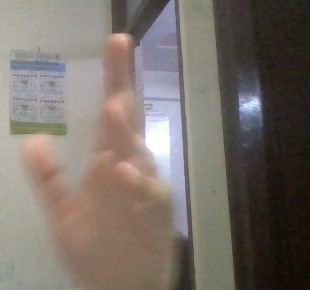move: (23, 22, 184, 290)
